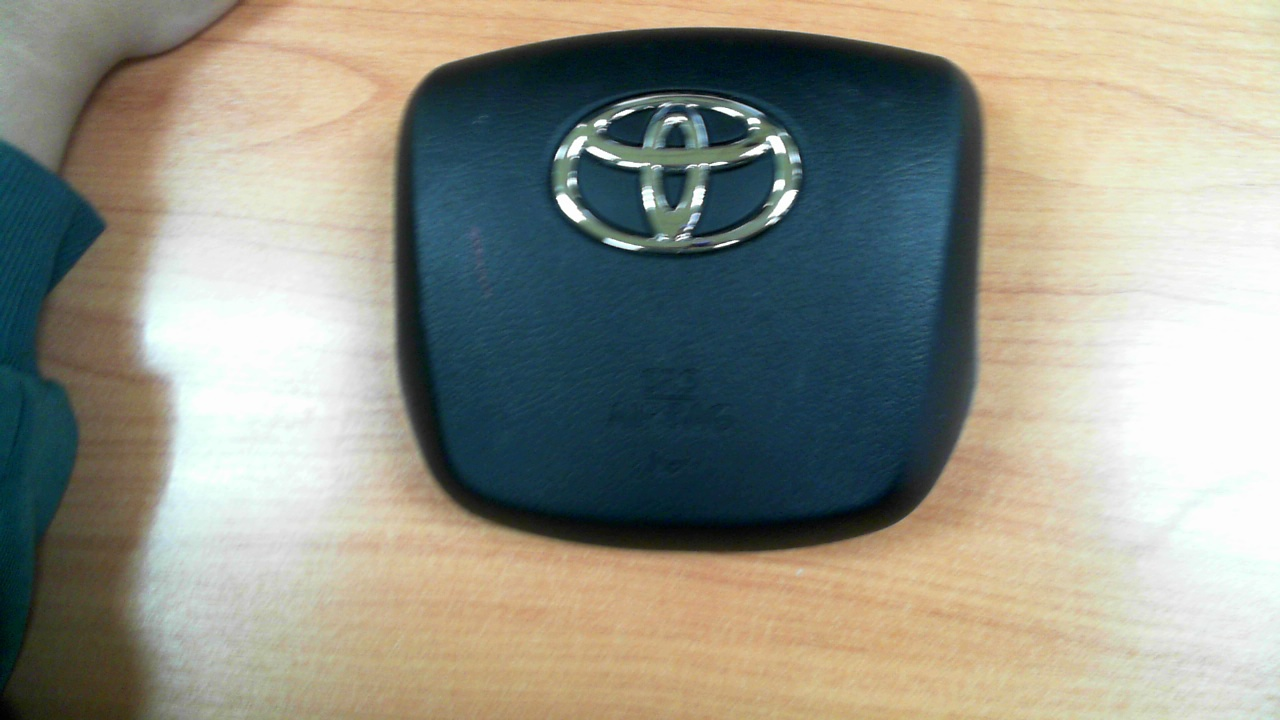Airbag: (394, 25, 984, 554)
Toyota: (550, 93, 803, 254)
